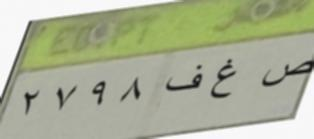2: (18, 82, 45, 121)
7: (48, 80, 81, 111)
8: (118, 71, 149, 108)
9: (86, 77, 111, 108)
faa: (166, 63, 202, 97)
ghayn: (203, 55, 245, 111)
saad: (259, 57, 313, 87)
